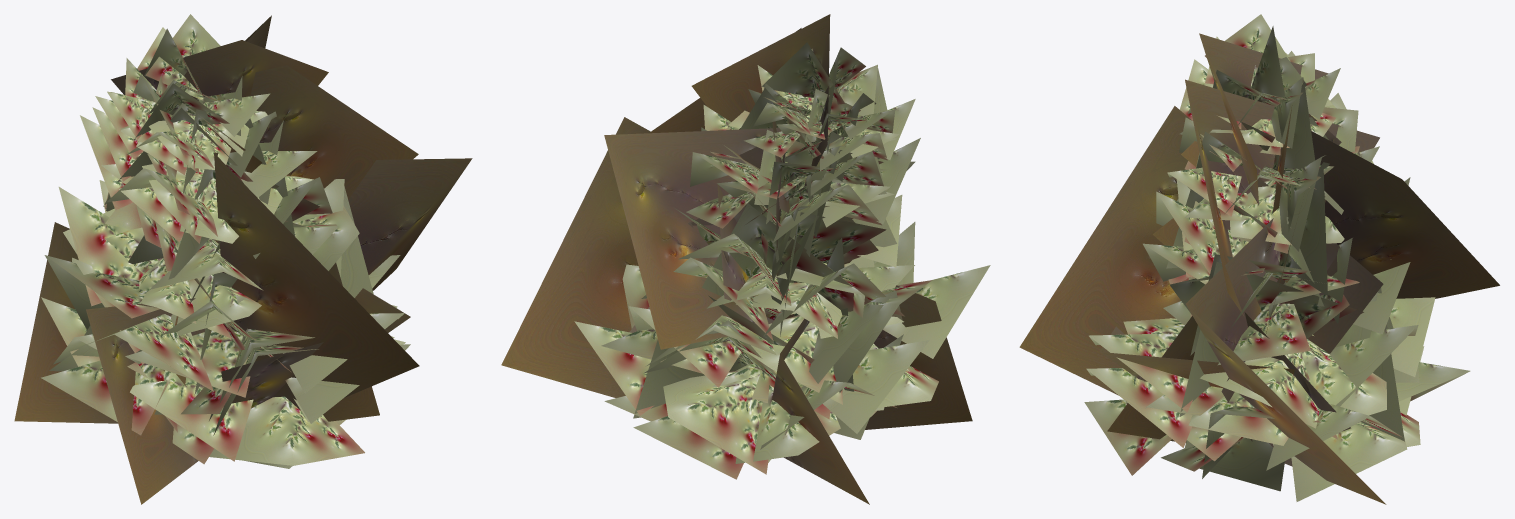
File: cornusmas-high.DAE
3 renders of one model, left to right at view 1: azimuth 30°, elevation 25°; view 2: azimuth 150°, elevation 25°; view 3: azimuth 270°, elevation 25°, orthographic. The views are drawn at different scales.
Parts seen in each view (by area): view 1: cornus_high; view 2: cornus_high; view 3: cornus_high.
Boxes of the visible parts, left/top/right/bottom form: cornus_high: left=14, top=14, right=472, bottom=504; cornus_high: left=501, top=14, right=990, bottom=504; cornus_high: left=1019, top=14, right=1499, bottom=504.
Size of the model in its own units: 370 by 391 by 400.
